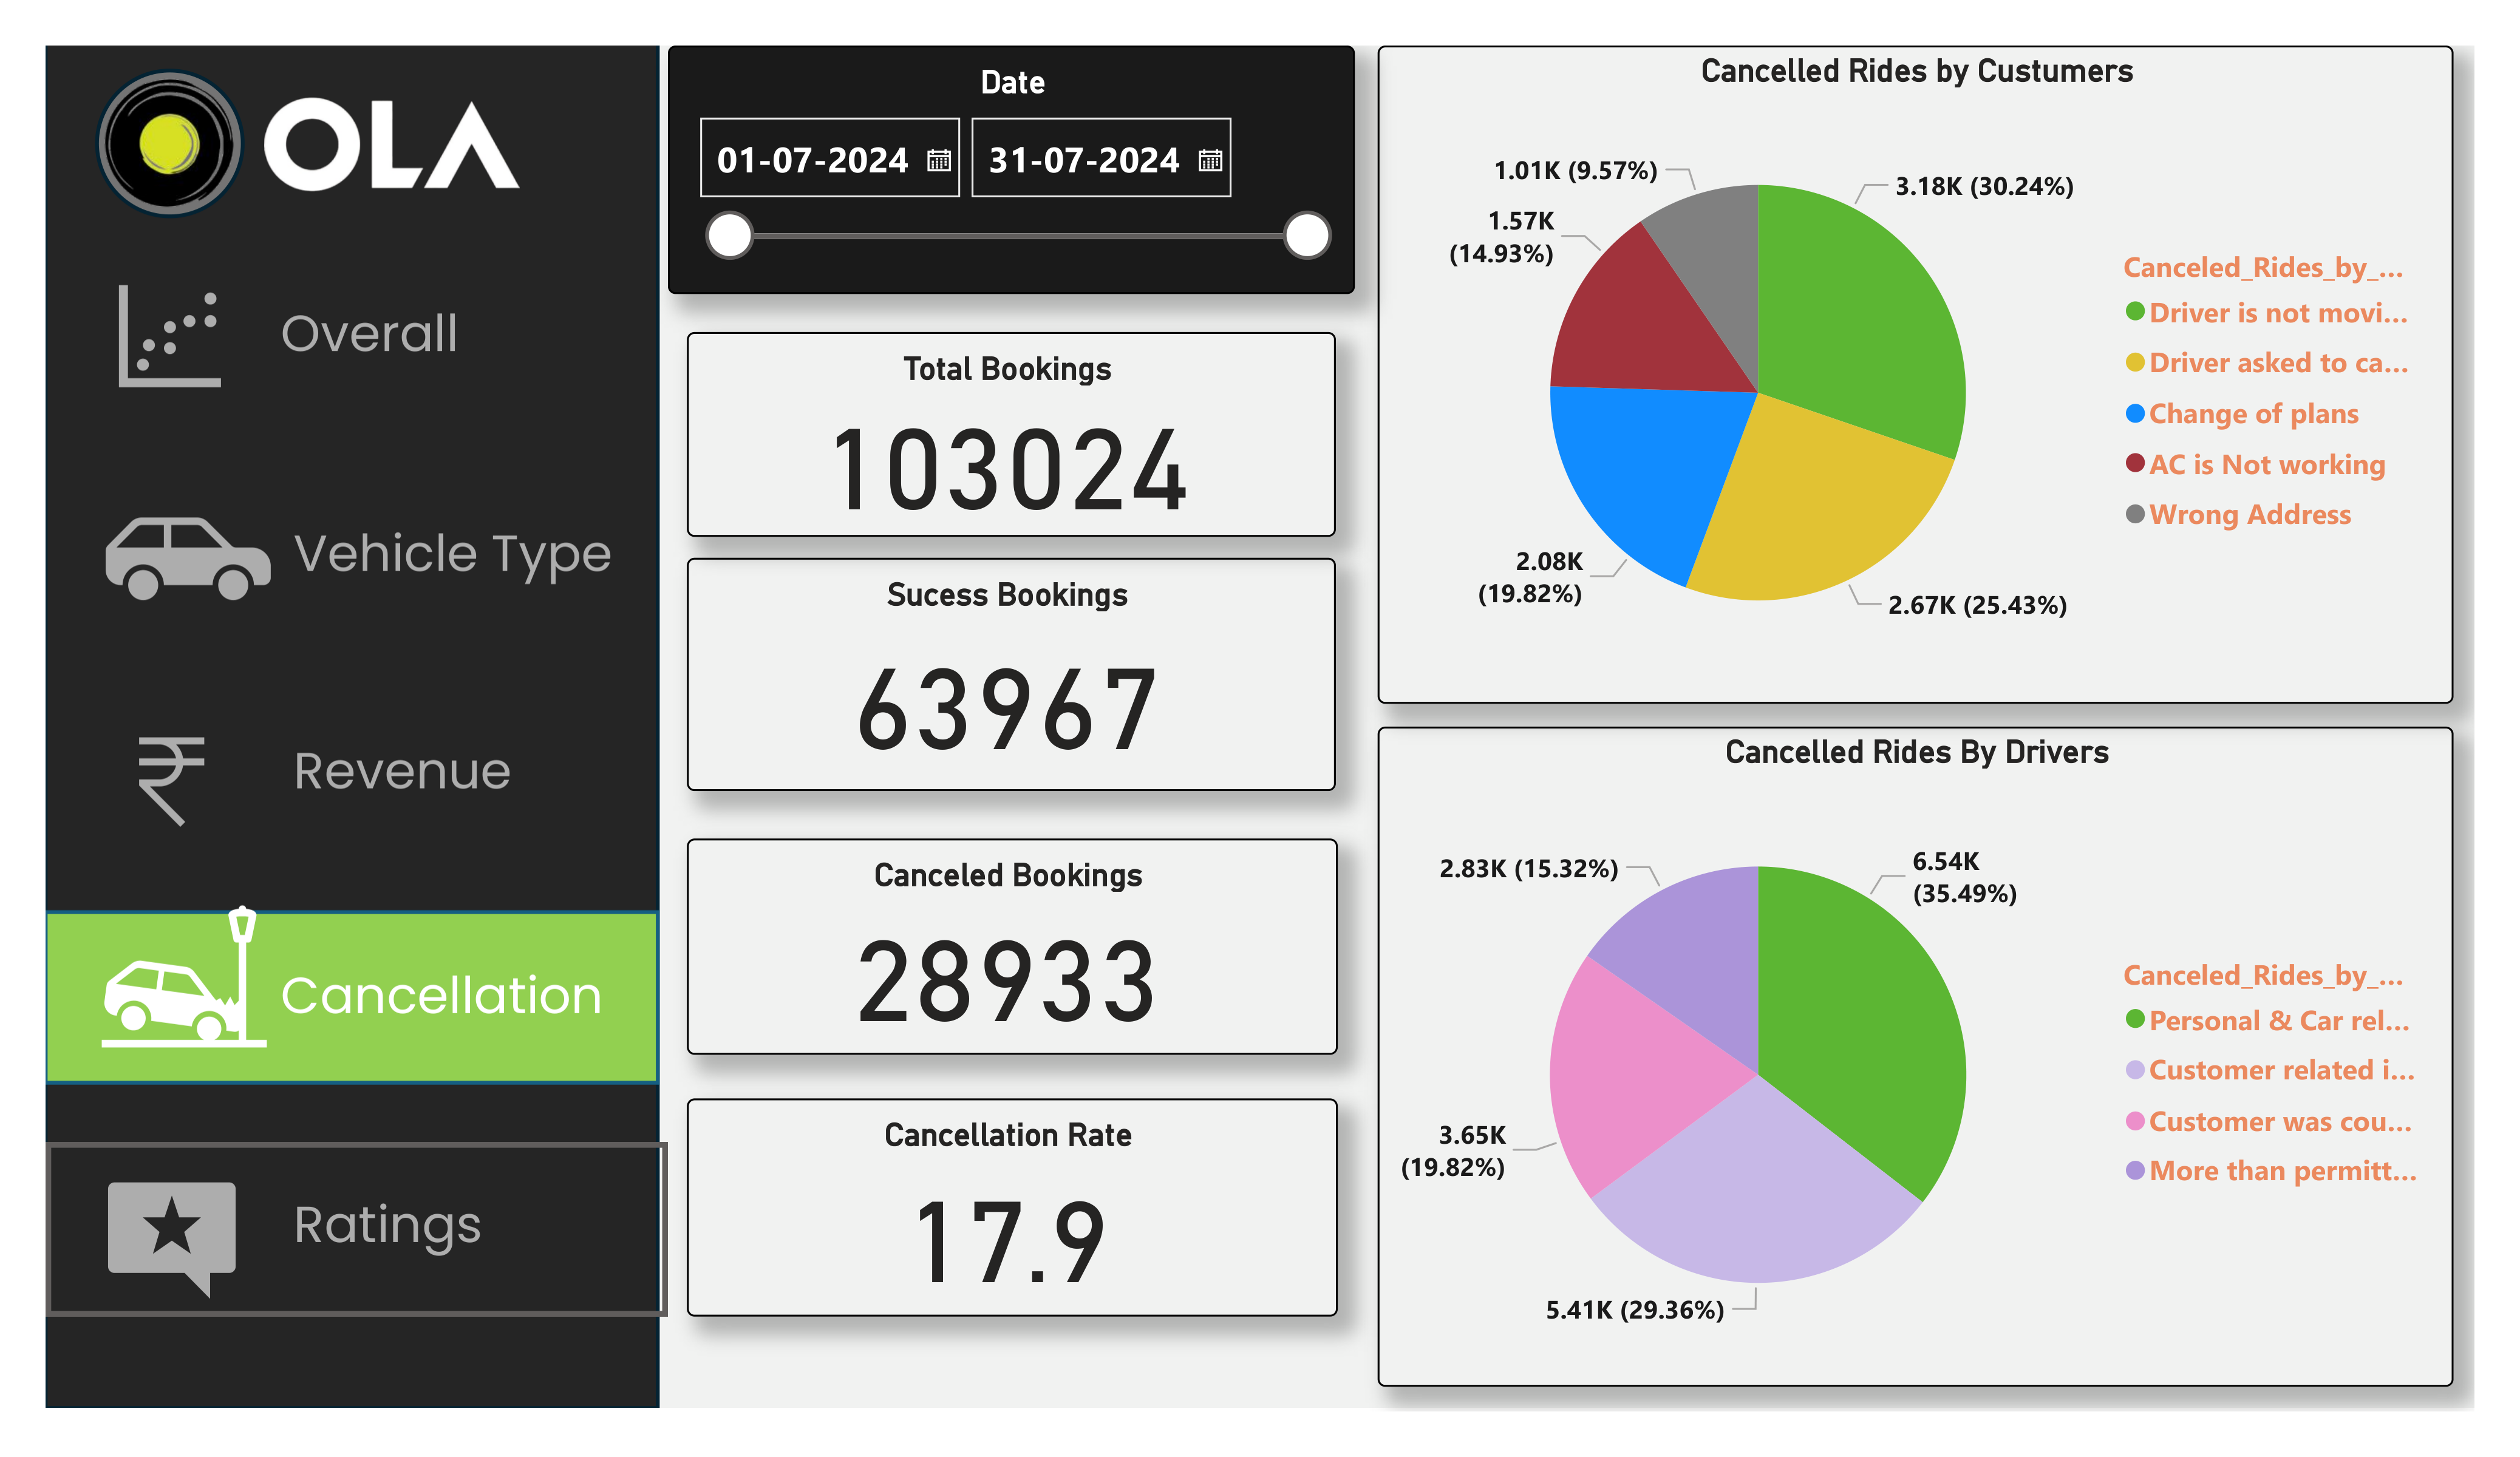

The page's visual inventory and layout, read from the dashboard file:
{"tool":"powerbi","page":{"name":"Cancellation","canvas":[1280,720],"ordinal":3},"visuals":[{"type":"actionButton","box":[0,577.8,327.6,92.5],"z":0},{"type":"pieChart","title":"Cancelled Rides by Custumers","fields":{"Category":["July.Canceled_Rides_by_Customer"],"Y":["CountNonNull(July.Canceled_Rides_by_Customer)"]},"box":[702.2,0,567.2,347.3],"z":1000},{"type":"pieChart","title":"Cancelled Rides By Drivers","fields":{"Y":["CountNonNull(July.Canceled_Rides_by_Customer)"],"Category":["July.Canceled_Rides_by_Driver"]},"box":[702.2,359.4,567.2,347.3],"z":2000},{"type":"slicer","title":"Date","fields":{"Values":["July.Date"]},"box":[327.8,0,362.2,131.1],"z":3000},{"type":"card","title":"Total Bookings","fields":{"Values":["CountNonNull(July.Booking_ID)"]},"box":[337.6,150.8,342.5,108.2],"z":4000},{"type":"card","title":"Sucess Bookings","fields":{"Values":["CountNonNull(July.Booking_ID)"]},"box":[337.6,270.4,342.5,122.9],"z":5000},{"type":"card","title":"Canceled  Bookings","fields":{"Values":["CountNonNull(July.Booking_ID)"]},"box":[338.3,417.6,342.4,114.8],"z":6000},{"type":"card","title":"Cancellation Rate","fields":{"Values":["July.CanceledPercentage"]},"box":[338.3,555.4,342.4,114.8],"z":7000}]}

Visuals, with their boxes on the page's 1280x720 design canvas (x1, y1, x2, y2). These are canvas units, not pixel positions in the 2520x1457 screenshot, which may show the page scaled, cropped or inside an application window:
actionButton: 0:578:328:670
"Cancelled Rides by Custumers" pieChart: 702:0:1269:347
"Cancelled Rides By Drivers" pieChart: 702:359:1269:707
"Date" slicer: 328:0:690:131
"Total Bookings" card: 338:151:680:259
"Sucess Bookings" card: 338:270:680:393
"Canceled  Bookings" card: 338:418:681:532
"Cancellation Rate" card: 338:555:681:670
